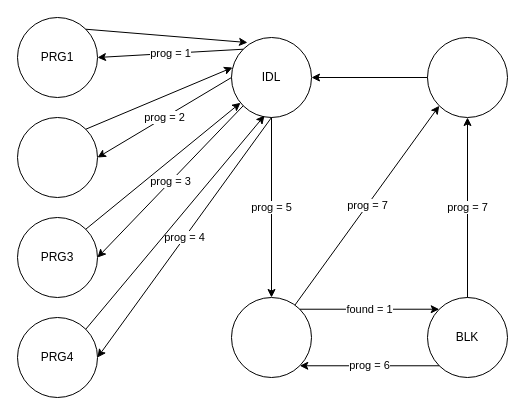
Some shapes in this 525 by 415 pixel diagram are drawn without their labels. The centre of each missing label's shape, as x and y in pixels:
"PRG2" belongs at point 57,157.
"RST" belongs at point 467,77.
"SRCH" belongs at point 271,337.
